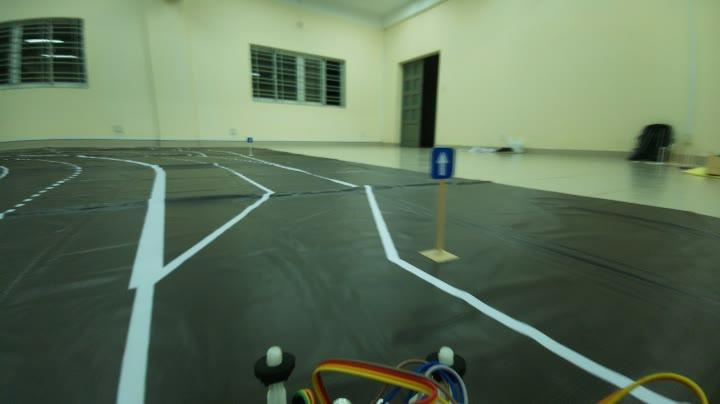onewayroad: (423, 142, 463, 184)
